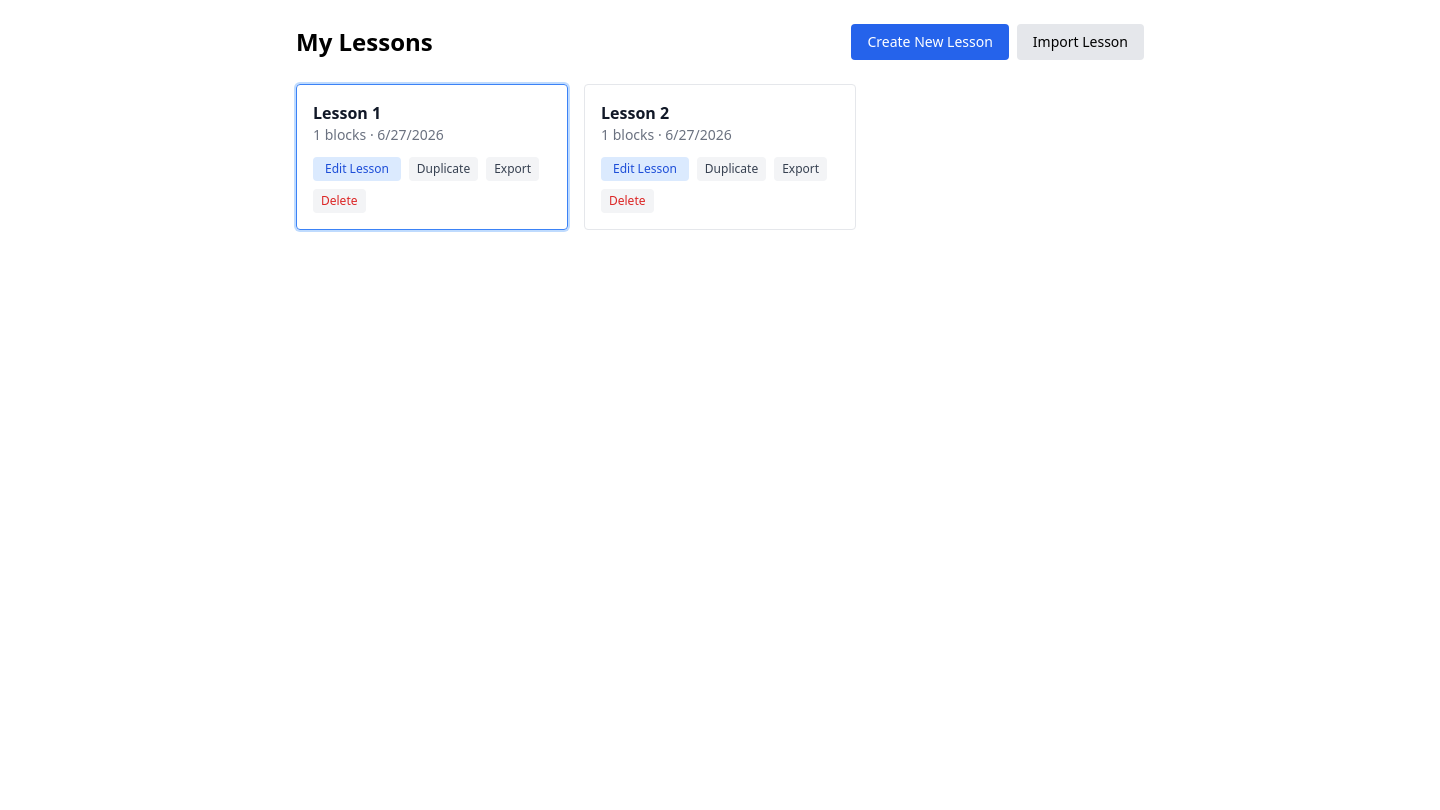
Scenario: App › multi-lesson flow › navigates library -> planner -> presentation -> library
Check: the heading "My Lessons" is shown, box top-left (296, 26), bottom-right (433, 58)
Click Edit on the first lesson
Click the button "Edit Lesson" below "Lesson 1": {"x": 357, "y": 169} top-left (313, 157), bottom-right (401, 181)
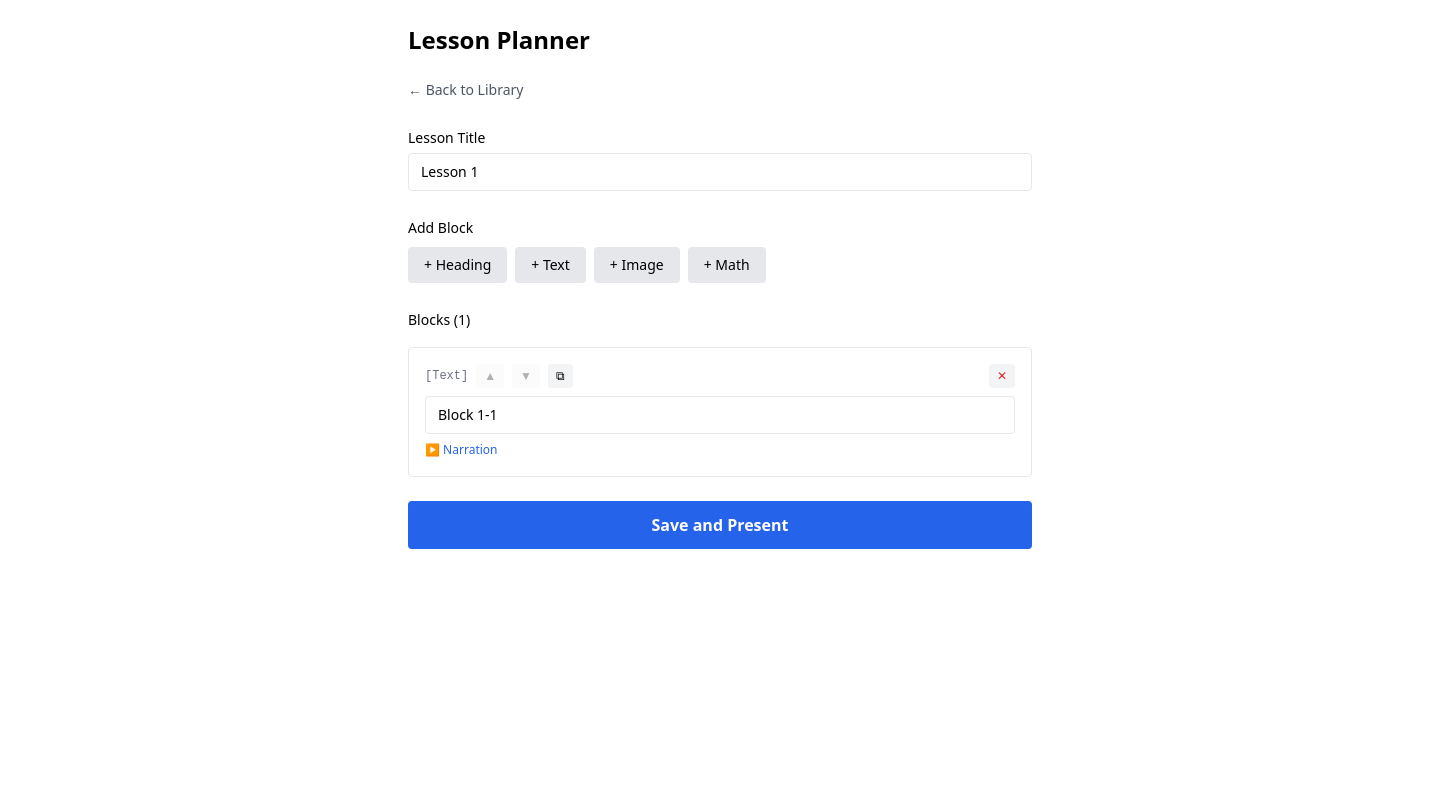
Check: the heading "Lesson Planner" is shown, box top-left (408, 23), bottom-right (590, 56)
Check: the button "← Back to Library" is shown, box top-left (408, 80), bottom-right (523, 100)
Save and present
Click the button "Save and Present": {"x": 720, "y": 525} top-left (408, 501), bottom-right (1032, 549)
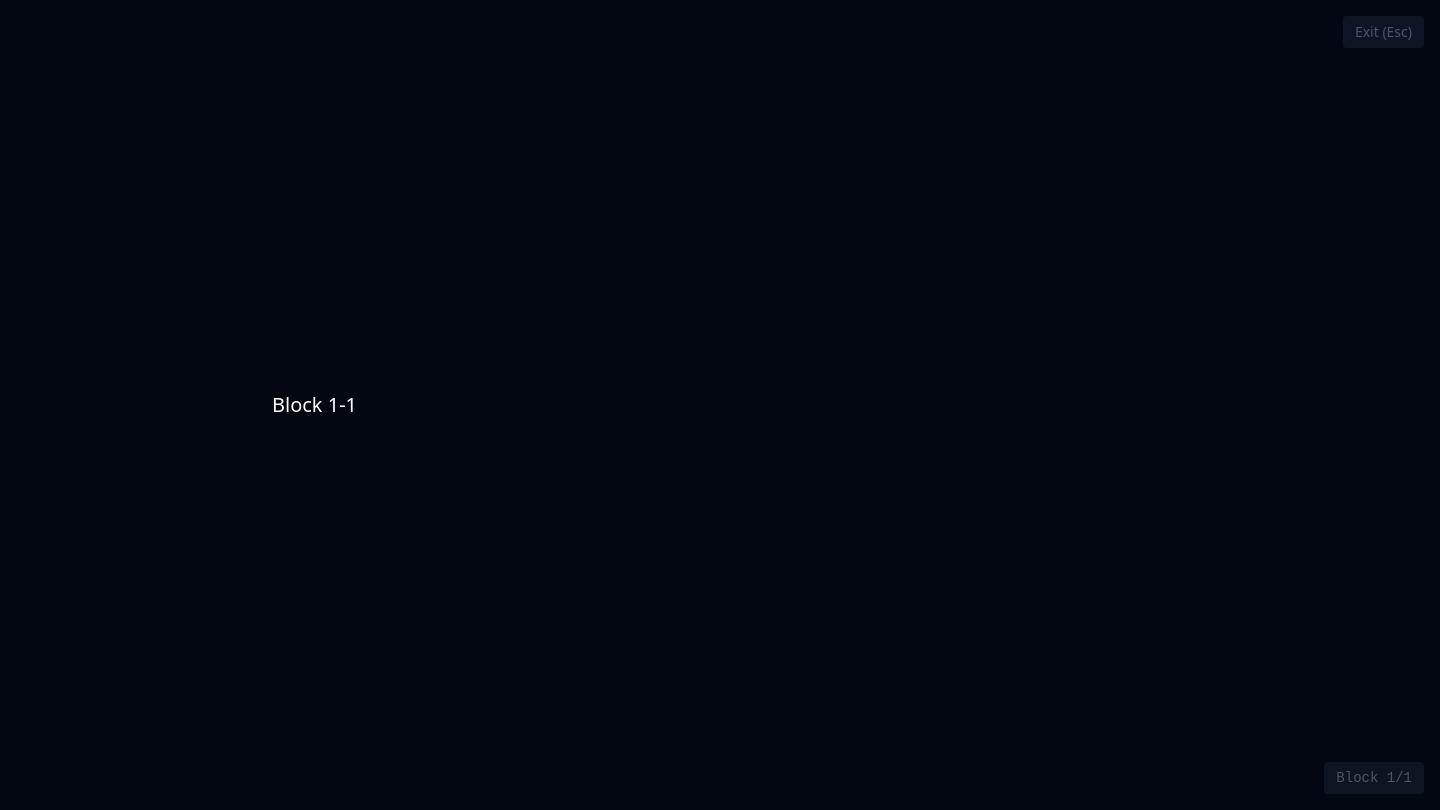
Check: the text "Block 1-1" is shown, box top-left (272, 391), bottom-right (357, 418)
Exit presentation
Press Escape
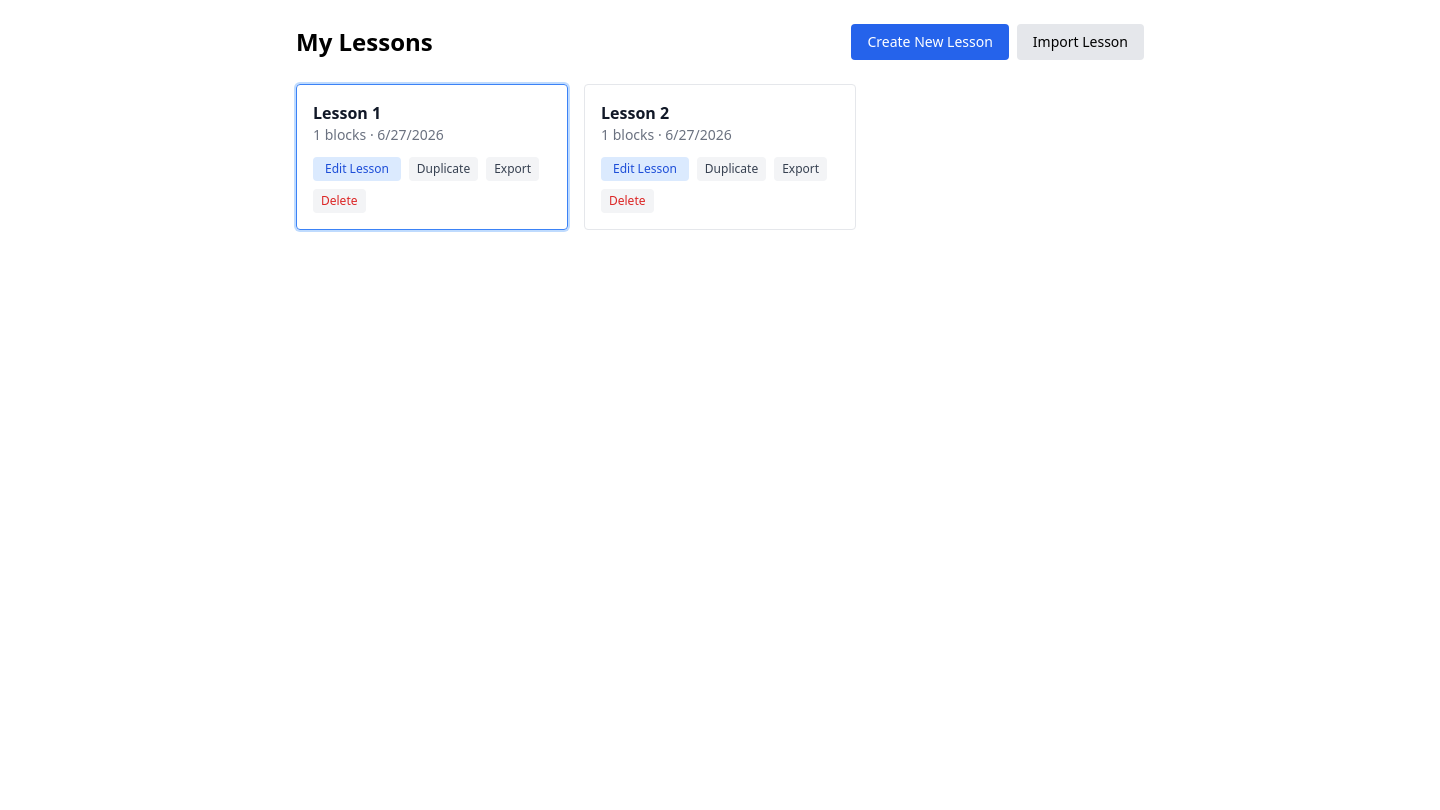
Check: the heading "My Lessons" is shown, box top-left (296, 26), bottom-right (433, 58)
